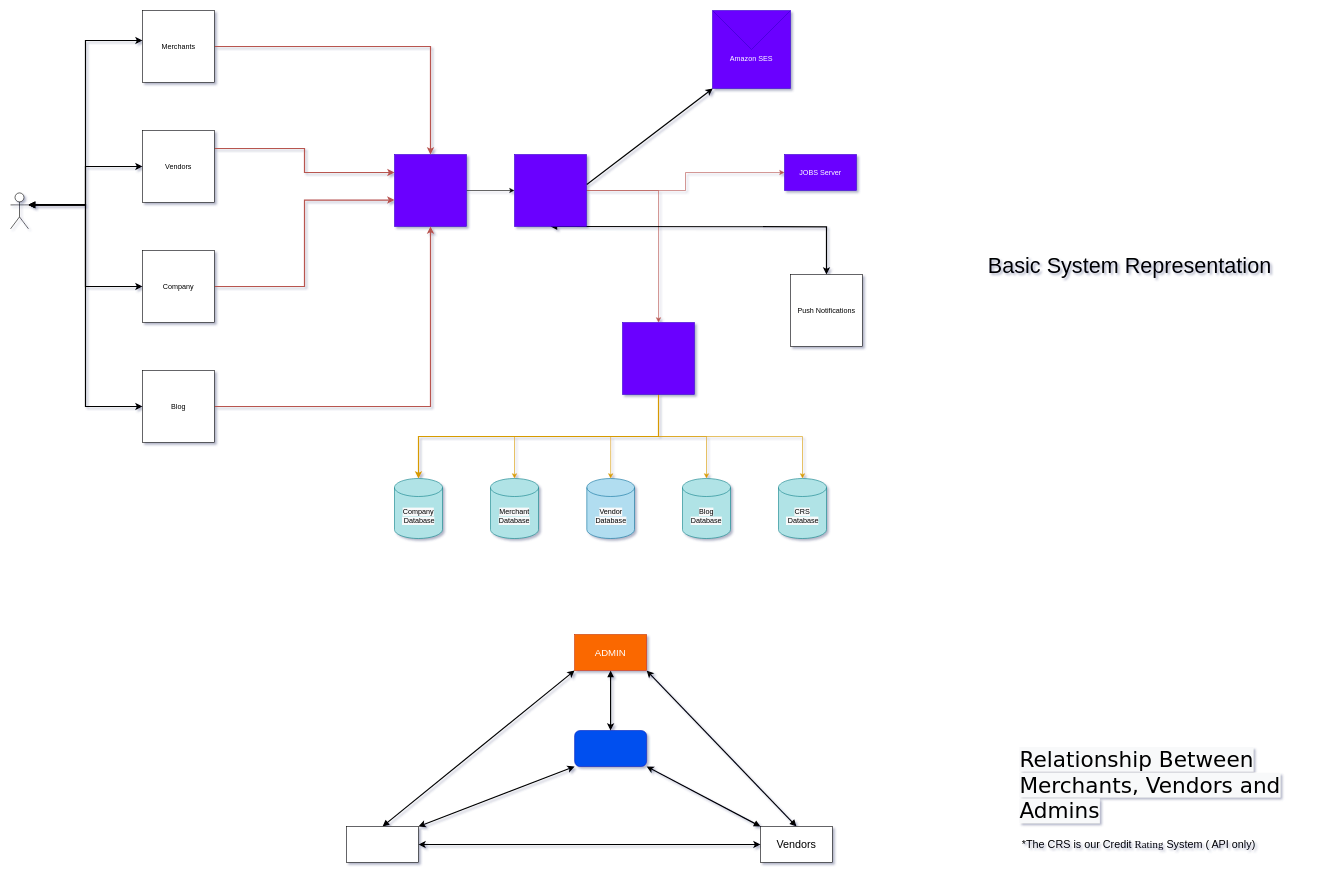
This 1333x877 diagram has some shape labels left out. The shapes that lost their labels are listed below. From the top down, each one's box as (x1, y1, x2, y2) in pixels, then its label:
(394, 154, 466, 226): DNS Servers
(514, 154, 586, 226): WEB Server
(10, 192, 28, 229): Actor
(622, 322, 694, 394): DB Servers
(574, 730, 647, 766): CRS
(346, 826, 418, 862): Merchant
